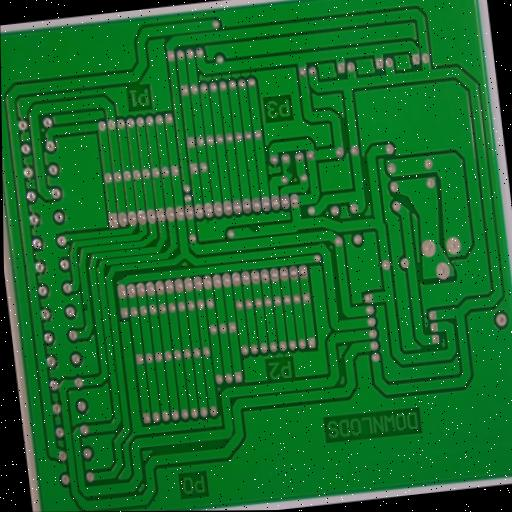mouse_bite: (247, 220, 262, 237), (284, 162, 296, 176), (80, 299, 90, 313)
